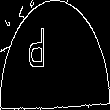P_S: (45, 29, 65, 81)
